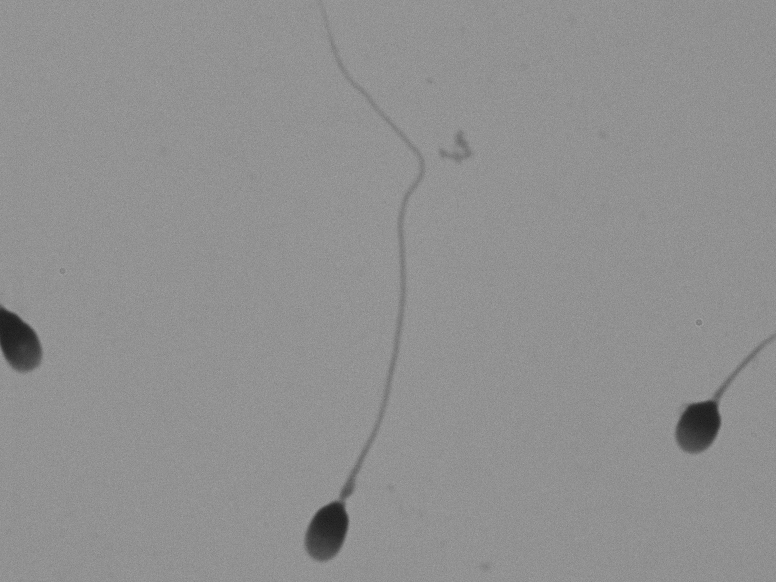Normal: (278, 20, 449, 576), (623, 267, 765, 509)
